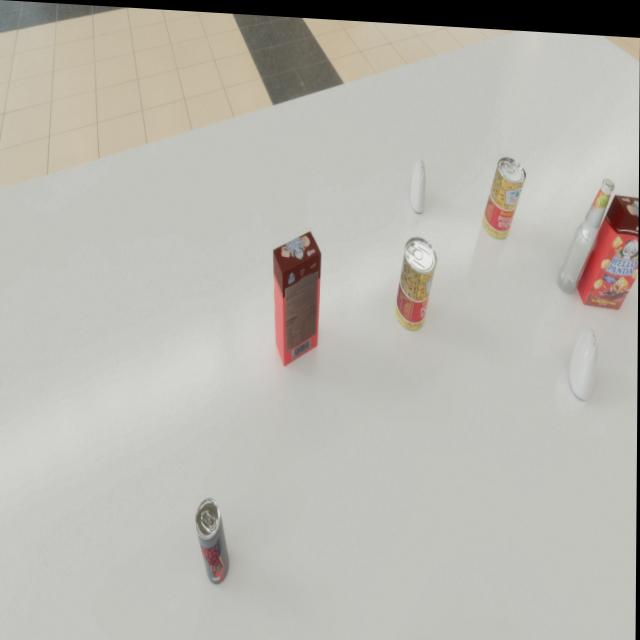Bottle: (557, 169, 615, 288)
HelloPanda: (576, 185, 639, 303), (273, 226, 322, 364)
Potato_sticks: (395, 231, 438, 327), (483, 150, 527, 235)
Rita_zero_sugar: (196, 495, 230, 582)
Salt: (569, 320, 599, 393), (411, 153, 426, 208)
